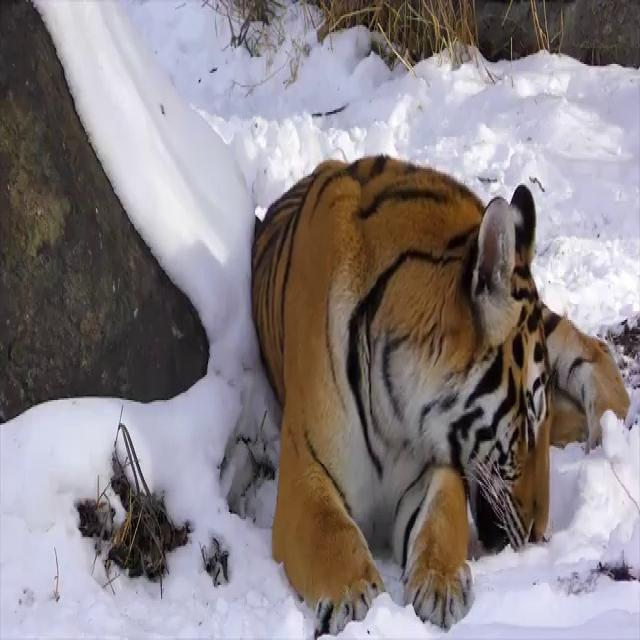tiger: (251, 154, 630, 638)
